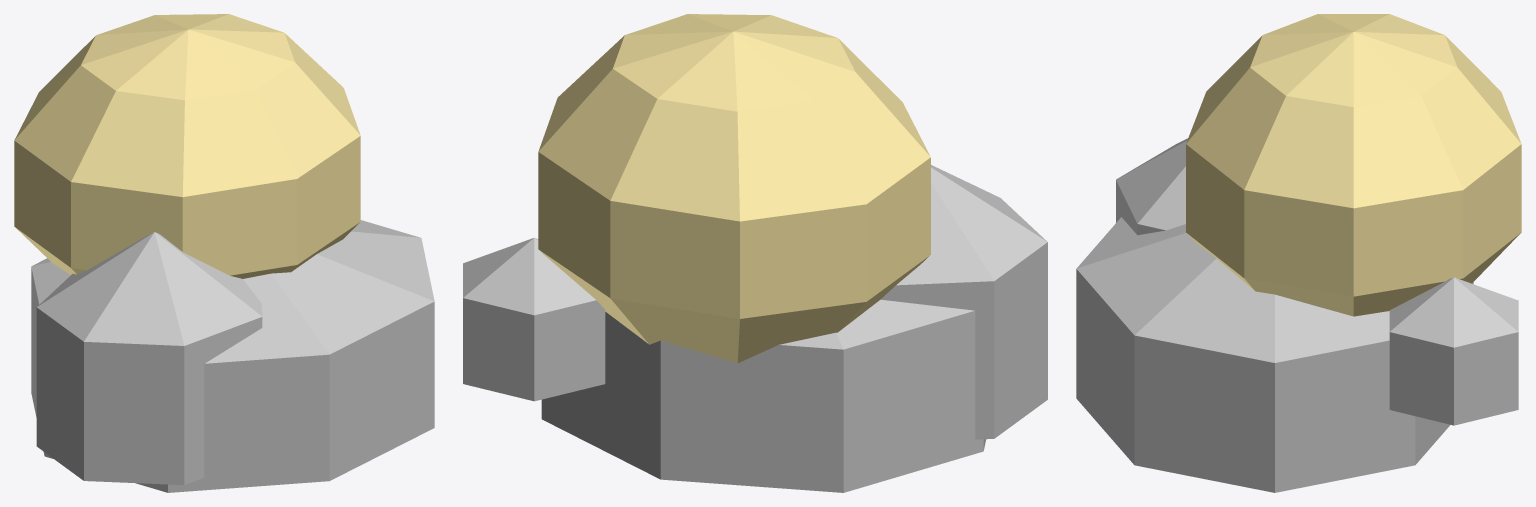
File: fleshbulb.obj
3 renders of one model, left to right at view 1: azimuth 30°, elevation 25°; view 2: azimuth 150°, elevation 25°; view 3: azimuth 270°, elevation 25°, orthographic. The views are drawn at different scales.
Visible parts, largest first — view 1: fleshbulb_2, fleshbulb_0, fleshbulb_1; view 2: fleshbulb_2, fleshbulb_0, fleshbulb_1, fleshbulb_3; view 3: fleshbulb_2, fleshbulb_0, fleshbulb_3, fleshbulb_1.
Part boxes in pixels (x1=…): fleshbulb_2: x1=14, y1=14, x2=360, y2=278; fleshbulb_0: x1=31, y1=220, x2=434, y2=492; fleshbulb_1: x1=36, y1=232, x2=262, y2=485; fleshbulb_2: x1=538, y1=14, x2=930, y2=363; fleshbulb_0: x1=541, y1=299, x2=985, y2=492; fleshbulb_1: x1=881, y1=165, x2=1047, y2=439; fleshbulb_3: x1=463, y1=237, x2=605, y2=401; fleshbulb_2: x1=1186, y1=14, x2=1521, y2=316; fleshbulb_0: x1=1076, y1=217, x2=1473, y2=492; fleshbulb_3: x1=1389, y1=277, x2=1518, y2=425; fleshbulb_1: x1=1116, y1=138, x2=1187, y2=235.
Bounding box in the file's own units: 0.6379 × 0.64 × 0.6213.
